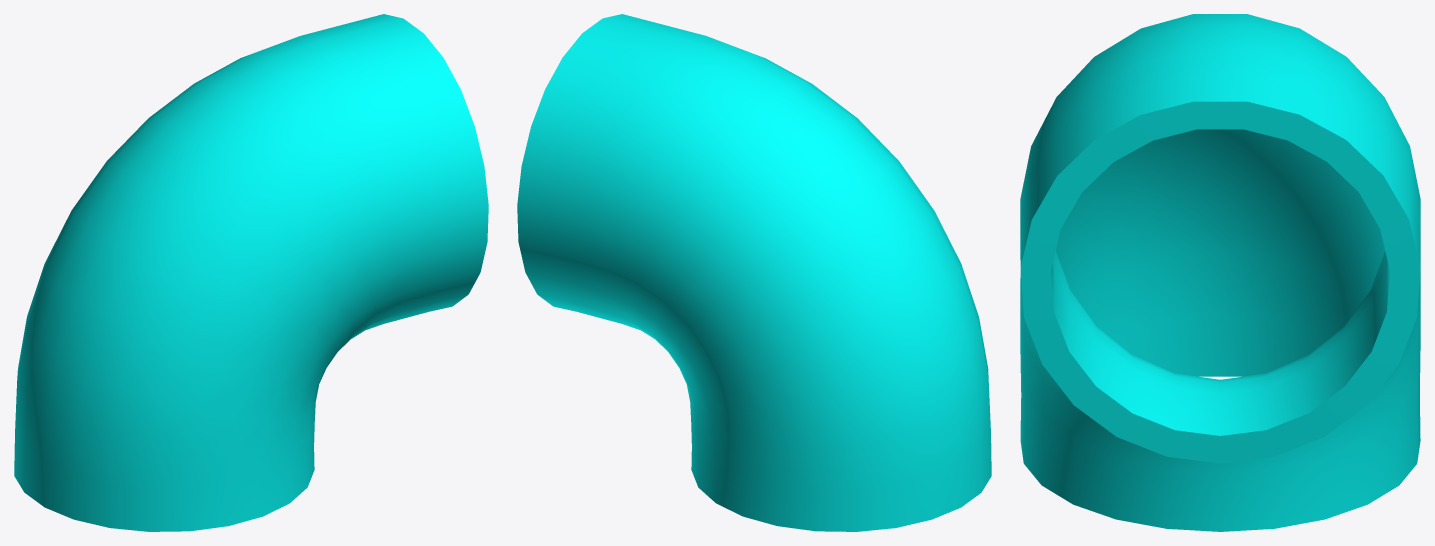
The model's file is pipe-test2.FBX.
3 views of the same model, side by side, from view 1: azimuth 30°, elevation 25°; view 2: azimuth 150°, elevation 25°; view 3: azimuth 270°, elevation 25° (orthographic). The views are drawn at different scales.
Visible parts, largest first — view 1: 223; view 2: 223; view 3: 223.
Boxes of the visible parts, x1,y1,x2,y2 form: 223: (14, 14, 488, 531); 223: (517, 14, 991, 531); 223: (1020, 14, 1420, 531).
Size of the model in its own units: 15.02 by 14.45 by 10.32.
